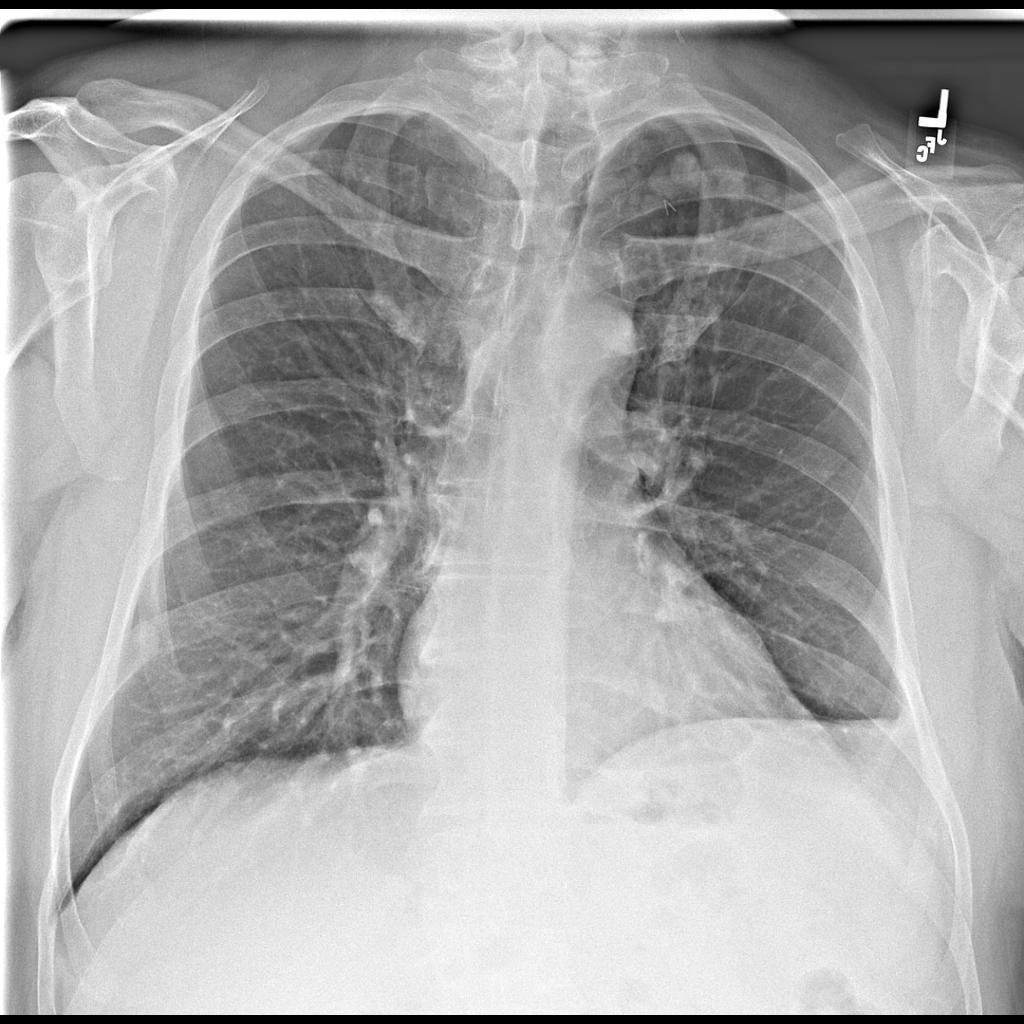Nodule: (672, 149, 712, 197)
